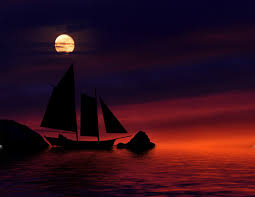boat: (38, 65, 134, 150)
